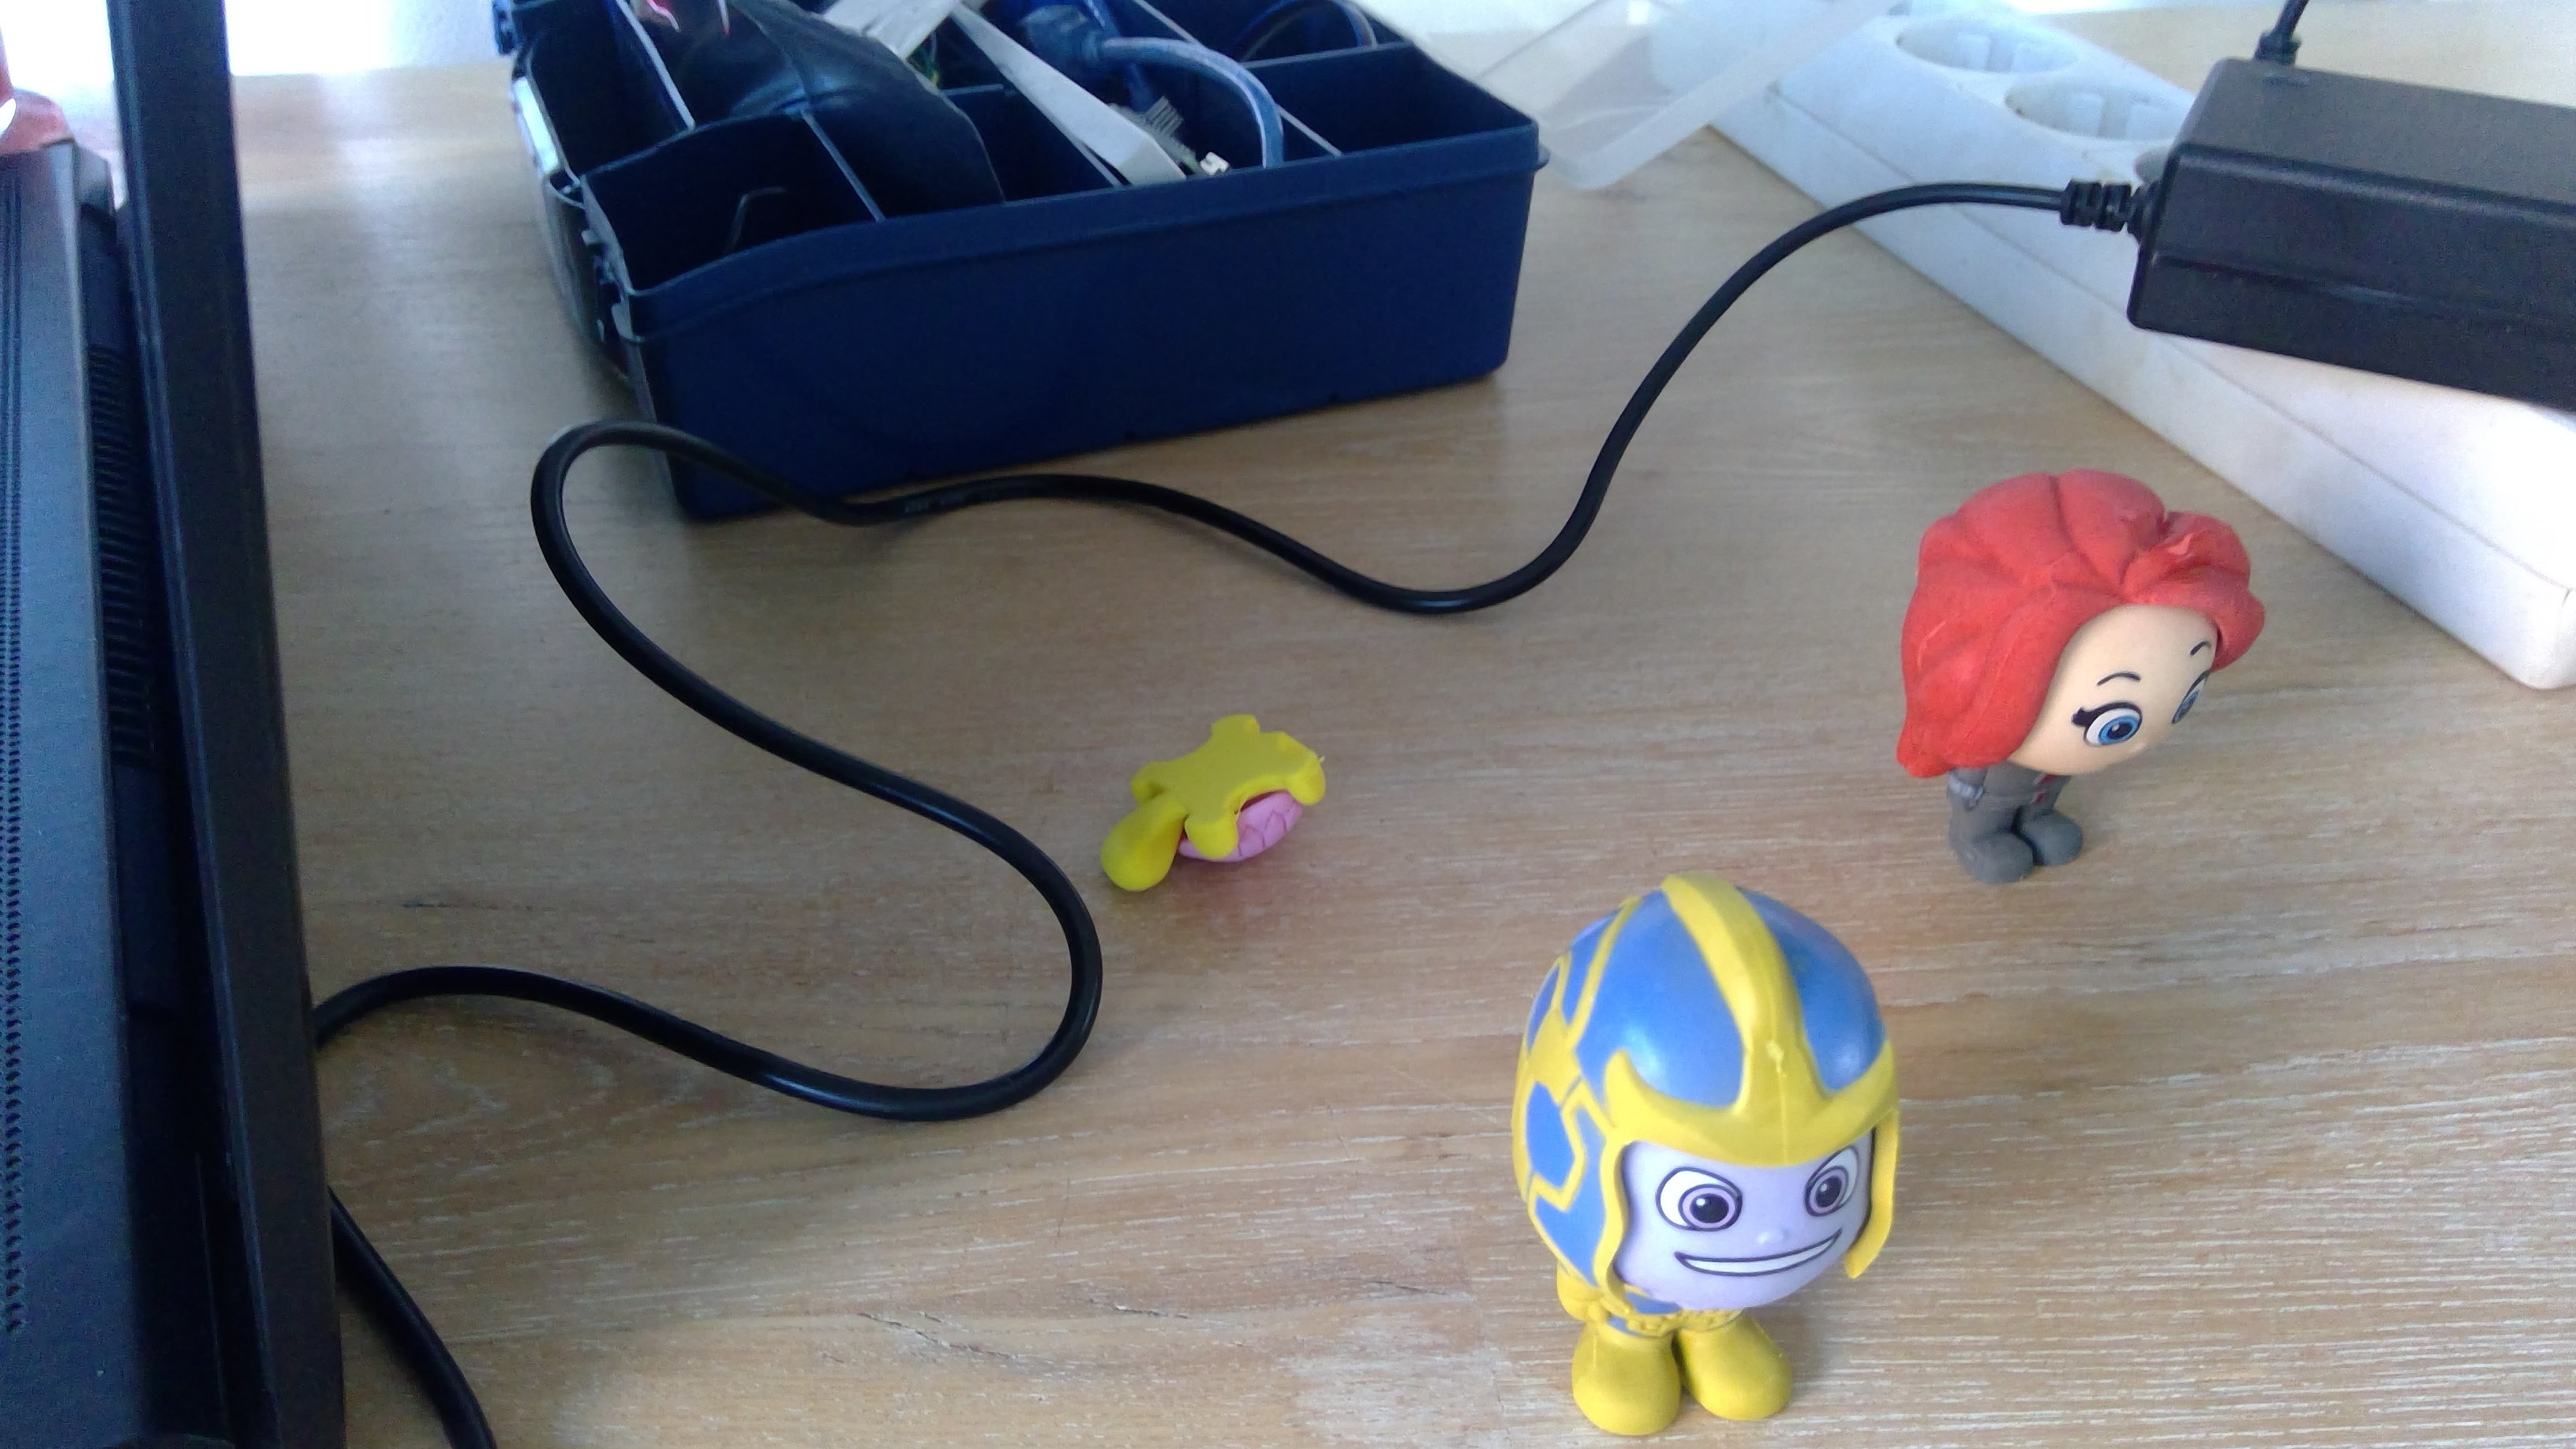schil: (1099, 702, 1323, 901)
spin: (1893, 462, 2270, 886)
thanos: (1491, 869, 1900, 1435)
